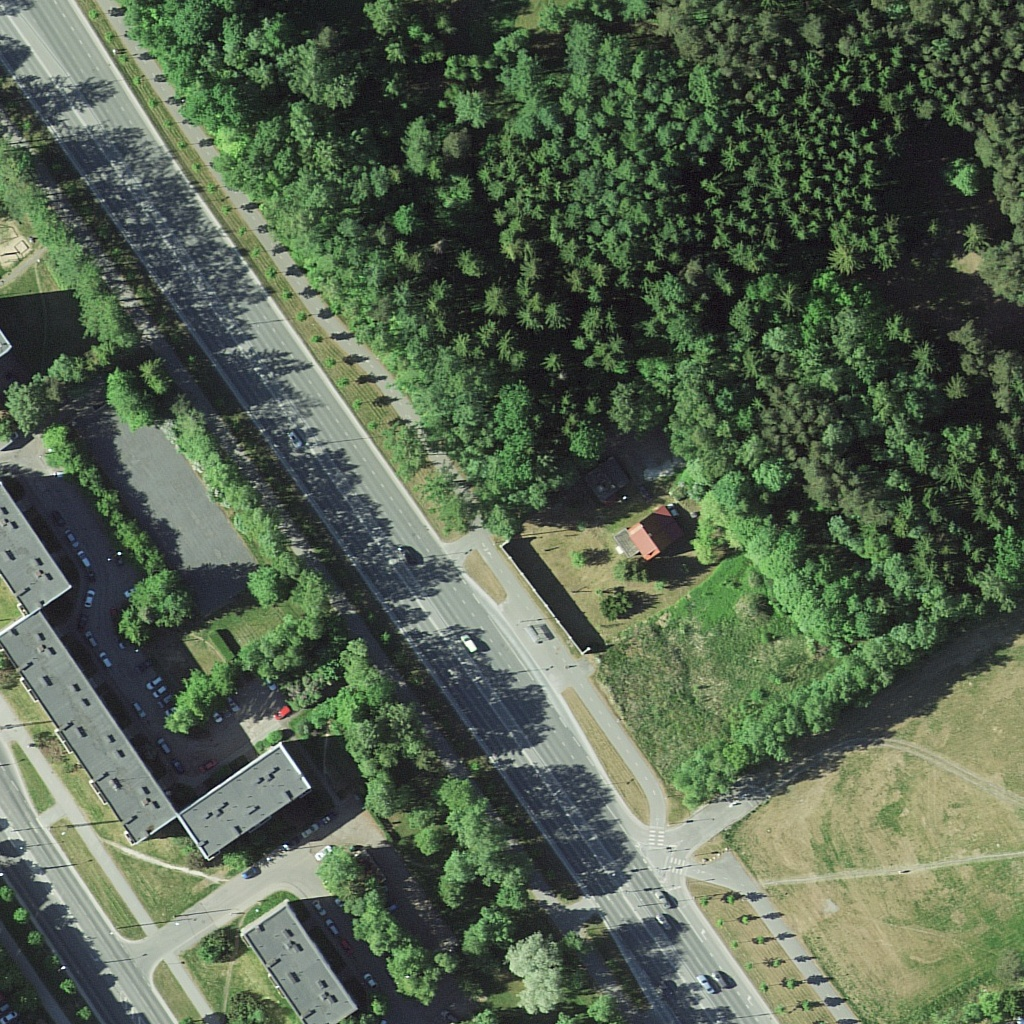building: (3, 612, 176, 844), (186, 745, 313, 860), (242, 901, 361, 1020), (625, 506, 685, 568)
